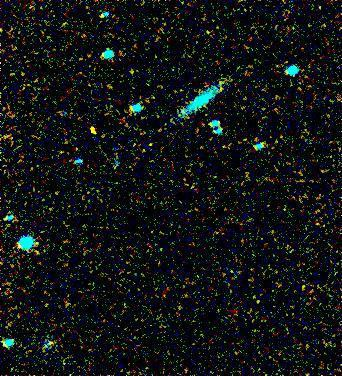star: (78, 115, 108, 145)
